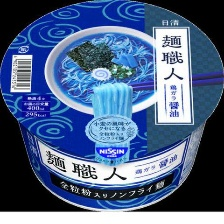paper_cup: (0, 0, 224, 211)
